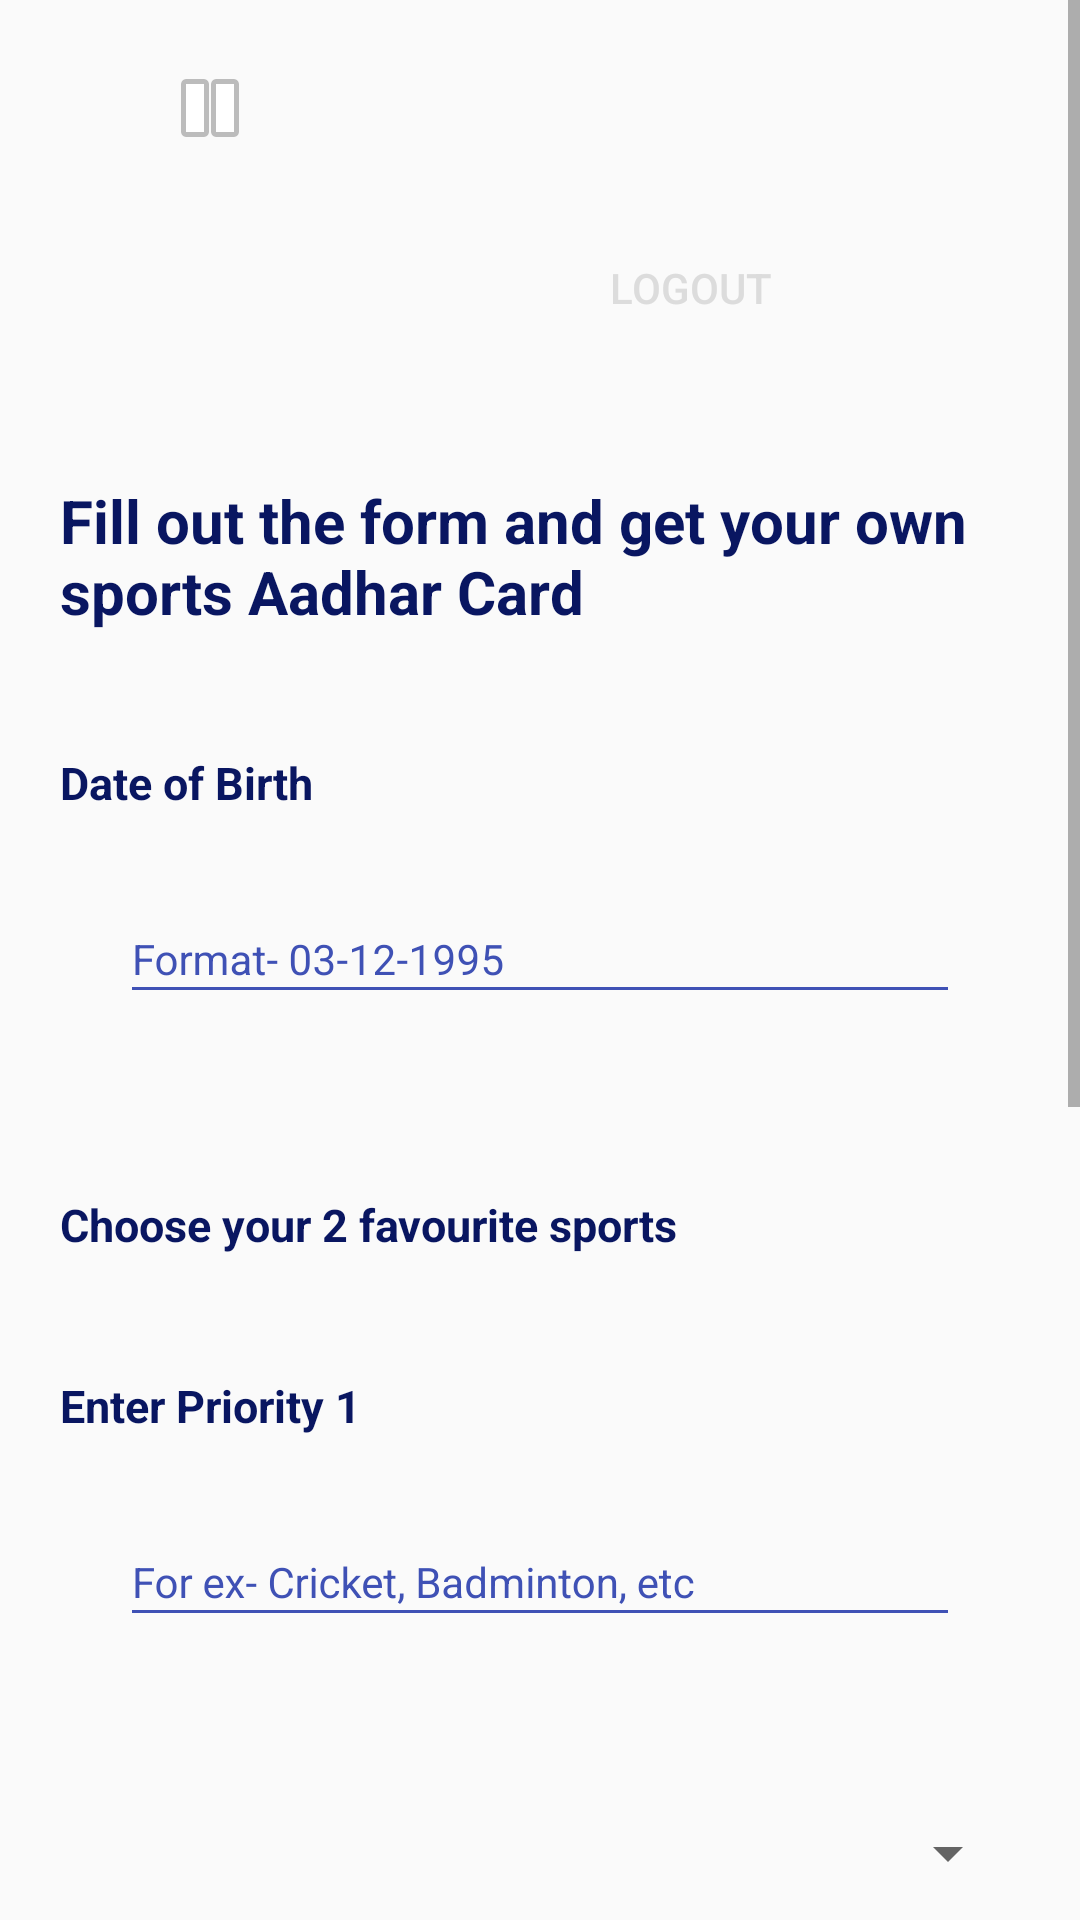

Screen size 1080 × 1920. Icon name, then its box in pixels as (x1, y1, x2, y2):
pause: (181, 79, 239, 137)
